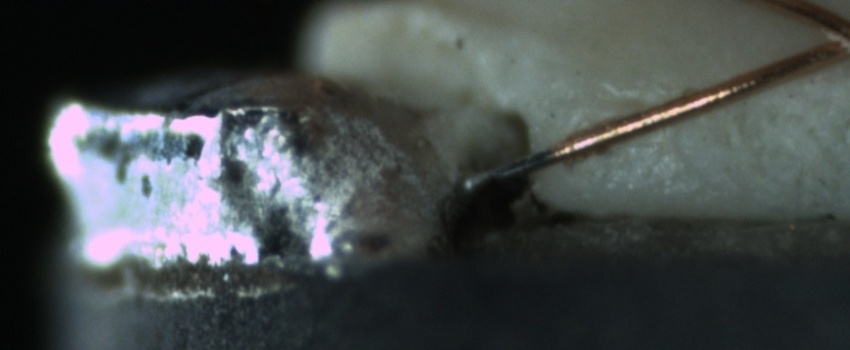CL: (801, 6, 850, 67)
DL: (547, 75, 677, 132)
TS: (458, 144, 555, 191)
